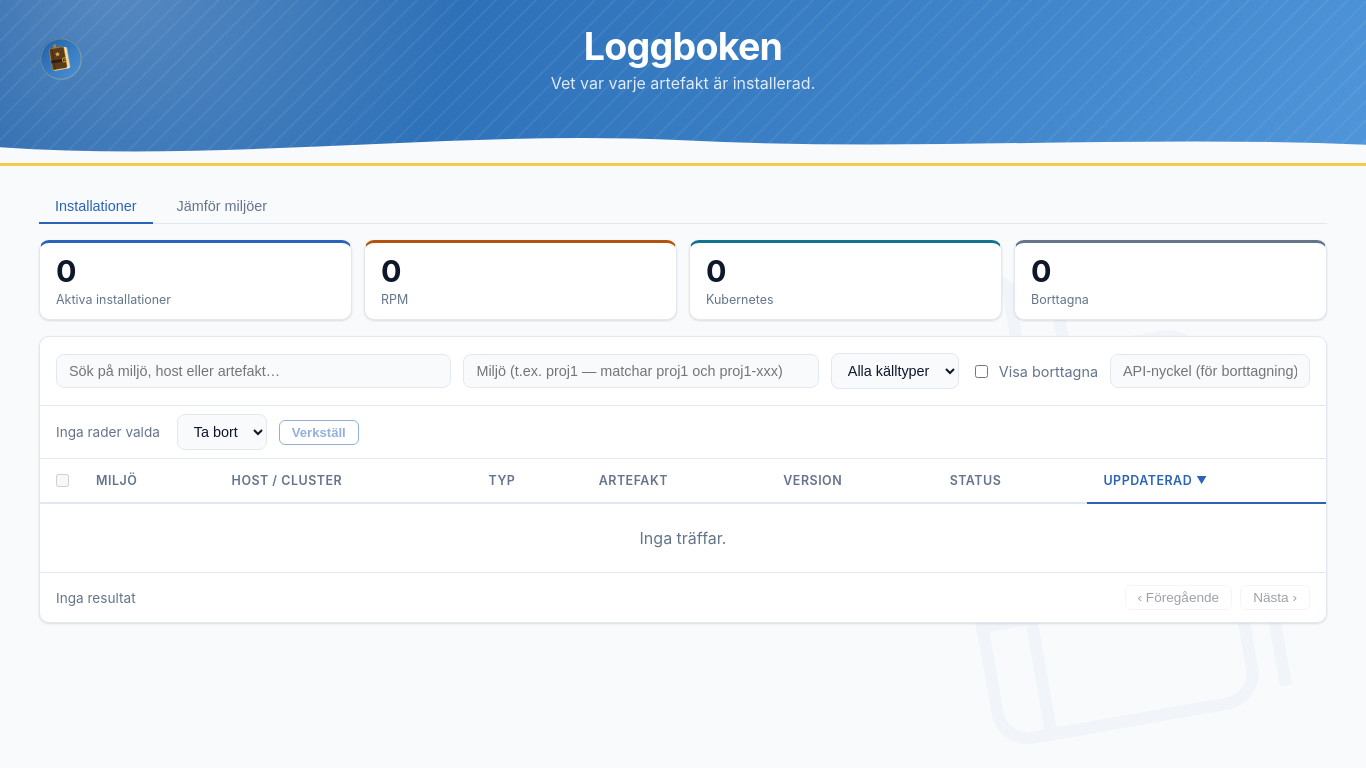
Test: App › switches to the diff tab when clicked
Click the button "Jämför miljöer" at point(222, 207), box [161,190,283,224]
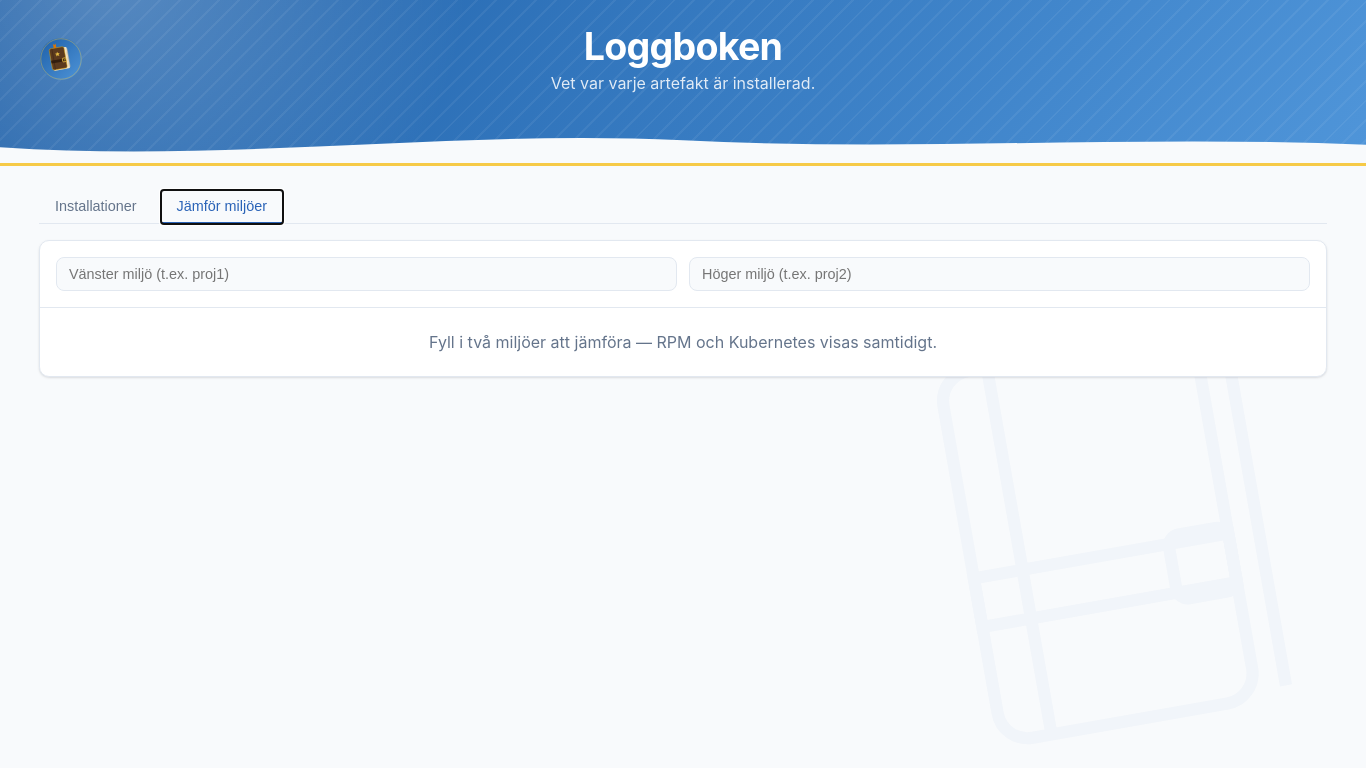
Now the search field with placeholder "Vänster miljö (t.ex. proj1)" is shown, box [56,257,677,291]
